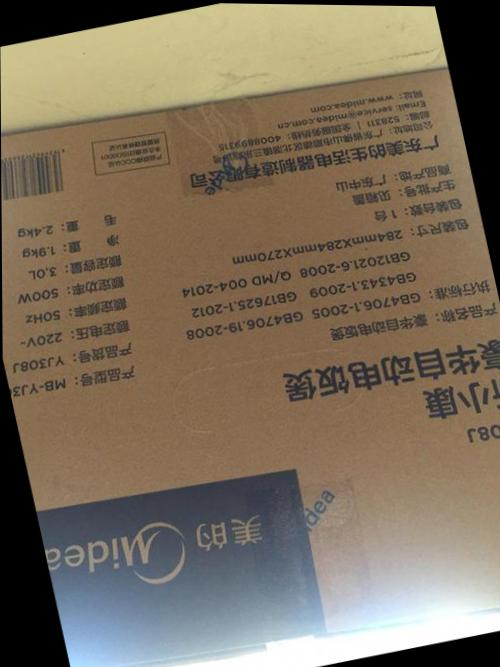cardboard: (0, 37, 500, 667)
